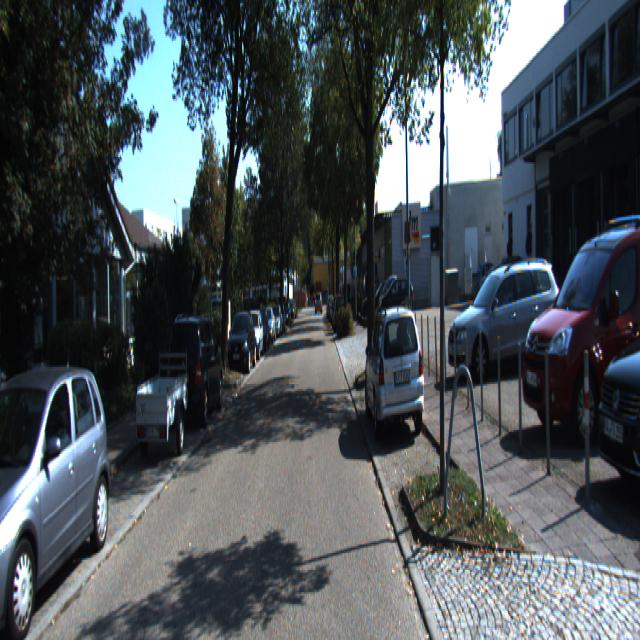Car: (0, 353, 116, 639), (516, 199, 639, 446), (446, 252, 563, 381), (585, 256, 639, 522), (362, 300, 428, 454), (167, 312, 223, 432), (133, 373, 191, 468), (478, 263, 526, 305), (226, 309, 256, 375)
